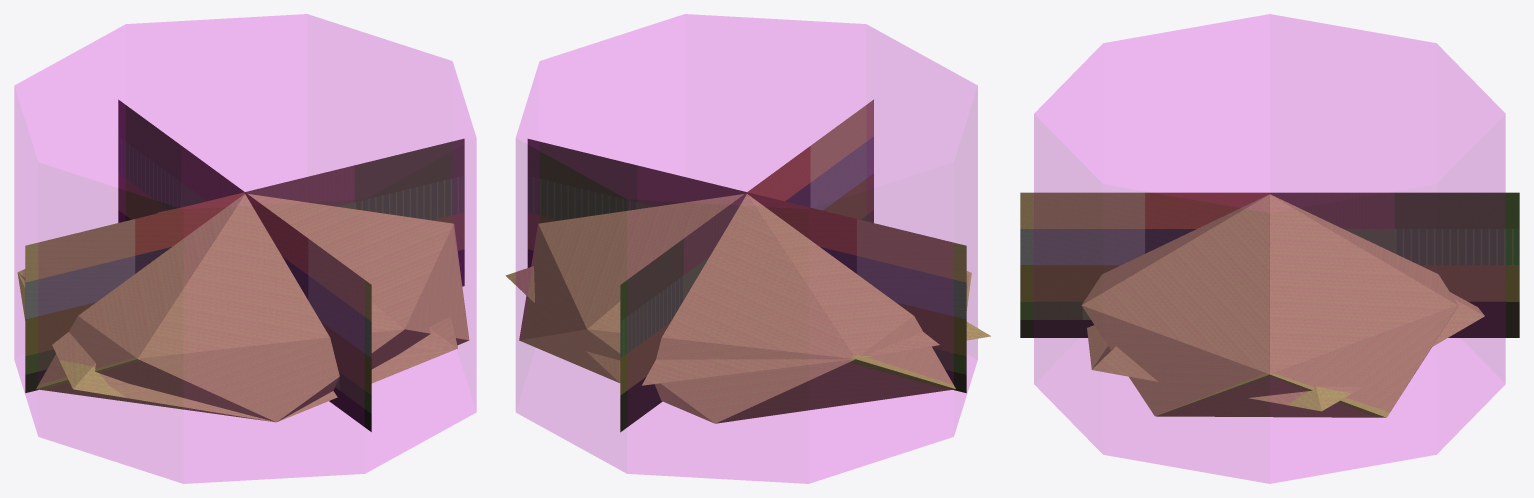
The model's file is rock_boulder_tan.dae.
3 renders of one model, left to right at view 1: azimuth 30°, elevation 25°; view 2: azimuth 150°, elevation 25°; view 3: azimuth 270°, elevation 25°, orthographic.
Parts seen in each view (by area): view 1: Colmesh_rock-1, rock_boulder_tan_a800, rock_boulder_tan_a50, rock_boulder_tan_a200; view 2: Colmesh_rock-1, rock_boulder_tan_a800, rock_boulder_tan_a50, rock_boulder_tan_a200; view 3: Colmesh_rock-1, rock_boulder_tan_a800, rock_boulder_tan_a50, rock_boulder_tan_a200.
Boxes of the visible parts, x1=… form: Colmesh_rock-1: x1=14, y1=14, x2=476, y2=483; rock_boulder_tan_a800: x1=17, y1=194, x2=469, y2=422; rock_boulder_tan_a50: x1=25, y1=99, x2=464, y2=431; rock_boulder_tan_a200: x1=18, y1=273, x2=457, y2=422; Colmesh_rock-1: x1=516, y1=14, x2=977, y2=483; rock_boulder_tan_a800: x1=519, y1=194, x2=971, y2=423; rock_boulder_tan_a50: x1=527, y1=99, x2=966, y2=432; rock_boulder_tan_a200: x1=505, y1=266, x2=990, y2=385; Colmesh_rock-1: x1=1034, y1=14, x2=1505, y2=483; rock_boulder_tan_a800: x1=1081, y1=194, x2=1458, y2=417; rock_boulder_tan_a50: x1=1020, y1=192, x2=1519, y2=337; rock_boulder_tan_a200: x1=1087, y1=292, x2=1484, y2=411.
Size of the model in its own units: 4.77 by 4.77 by 2.85.
Materials: 2 (1 with a texture image).
